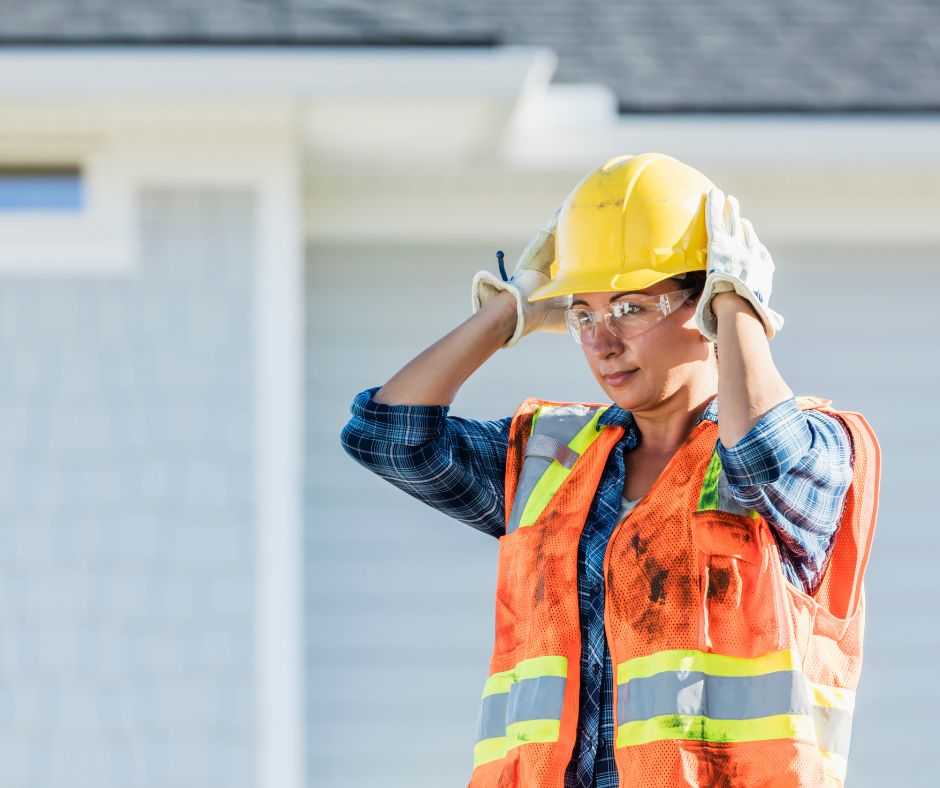Gloves: (698, 172, 790, 351), (466, 197, 565, 347)
Hard Hat: (536, 138, 704, 303)
Safety Glasses: (557, 290, 682, 357)
Safety Vest: (485, 373, 886, 788)
